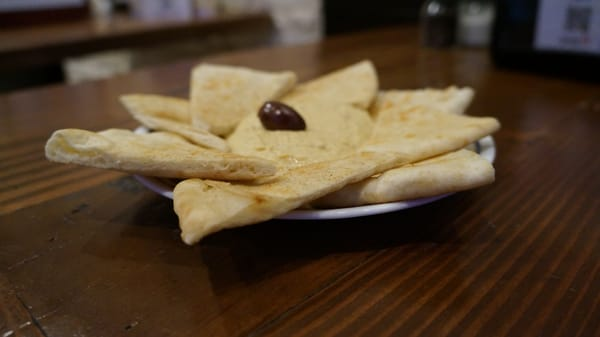curry: (19, 13, 599, 330)
sandwich: (36, 59, 499, 245)
